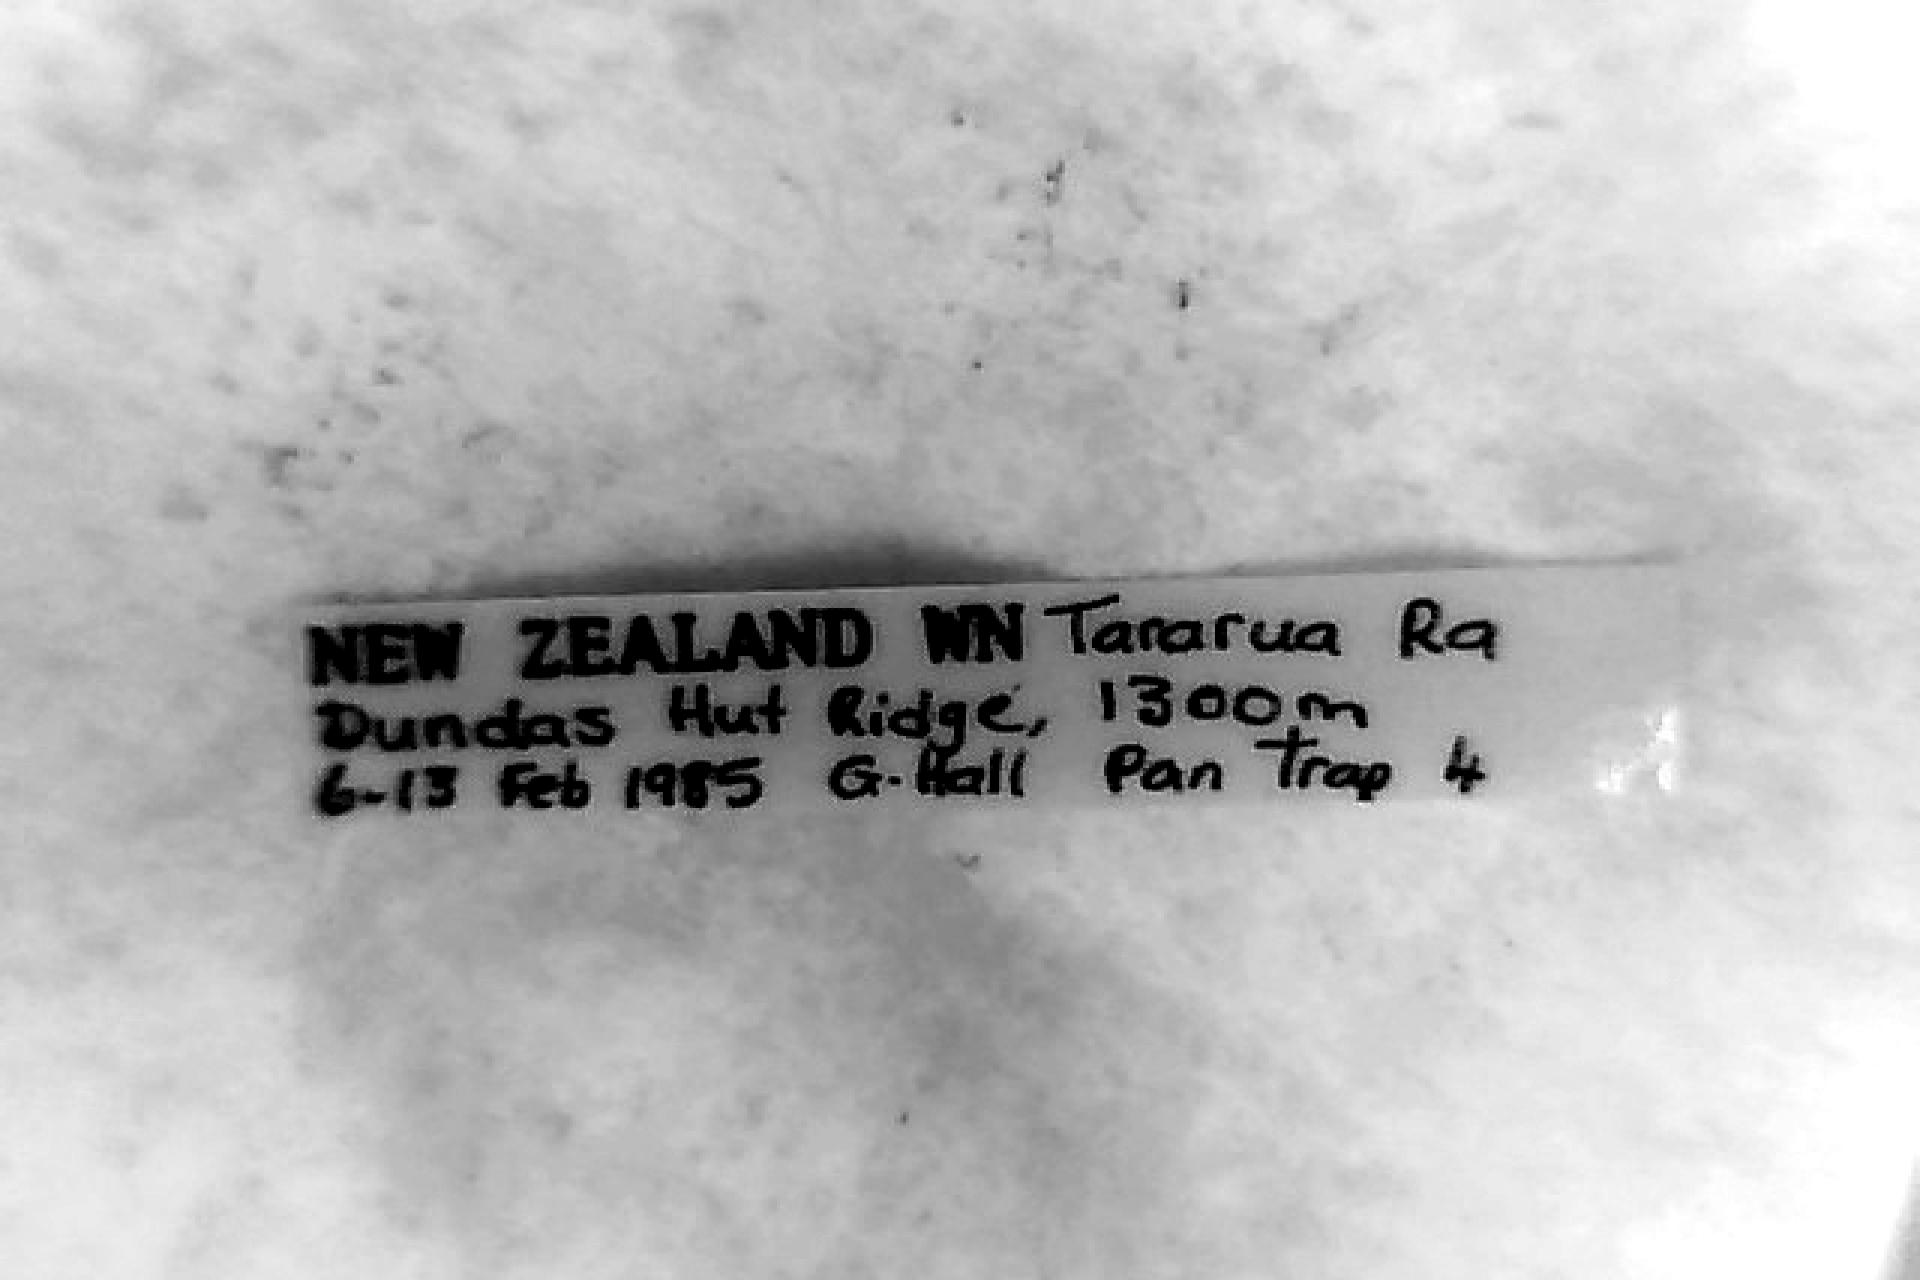mixed_label: (304, 567, 1684, 817)
